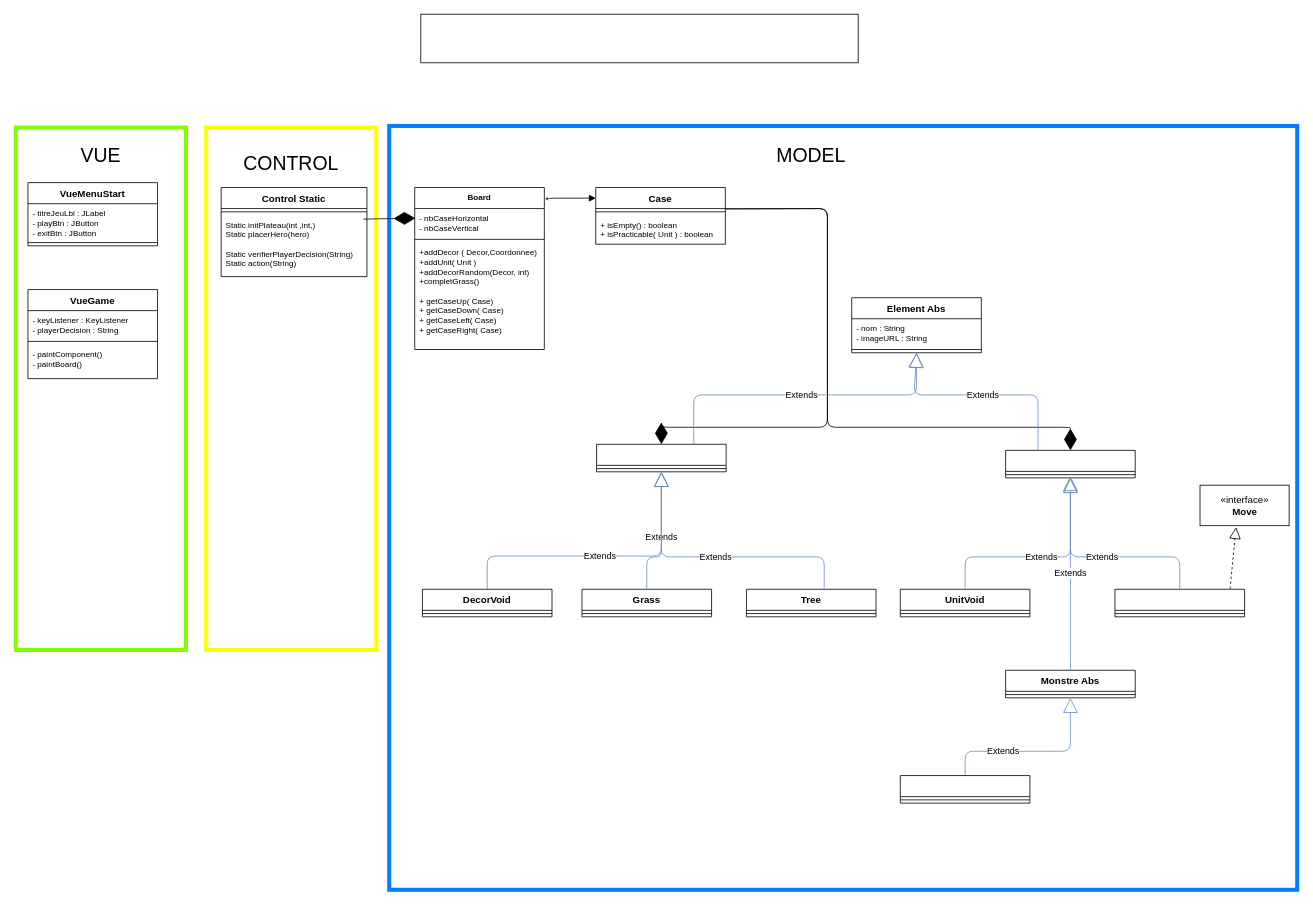
The diagram is 1313 pixels wide and 906 high, and some of its shapes have lost their labels. Here are the shapes that lost their labels. From the top down, the centre of each, then its label:
the point at 639,38: Diagramme Classe Game Version 2.0
the point at 661,457: Decor Abs
the point at 1070,464: Unit Abs
the point at 1179,602: Hero
the point at 965,789: Goblin
